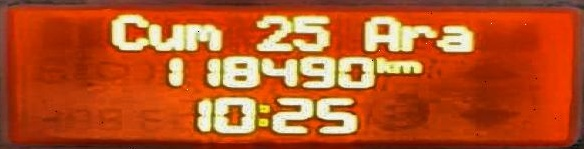0: (211, 94, 254, 135), (337, 54, 374, 89)
1: (193, 95, 216, 134), (163, 55, 186, 87), (200, 56, 218, 87)
2: (251, 12, 292, 53), (272, 96, 314, 136)
4: (257, 54, 299, 88)
5: (312, 96, 356, 136), (291, 10, 329, 53)
8: (218, 54, 258, 88)
9: (299, 53, 335, 90)
X: (358, 14, 403, 52), (107, 11, 148, 51), (182, 20, 224, 50), (147, 20, 184, 51), (439, 22, 476, 52), (399, 22, 435, 52), (395, 58, 425, 74), (372, 55, 396, 74), (257, 101, 271, 130)
